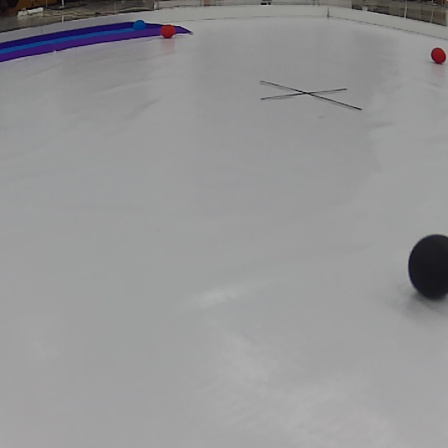black: (407, 231, 447, 294)
blue: (132, 20, 148, 33)
blue_aim: (0, 17, 194, 61)
red: (161, 23, 177, 43), (428, 46, 447, 61)
